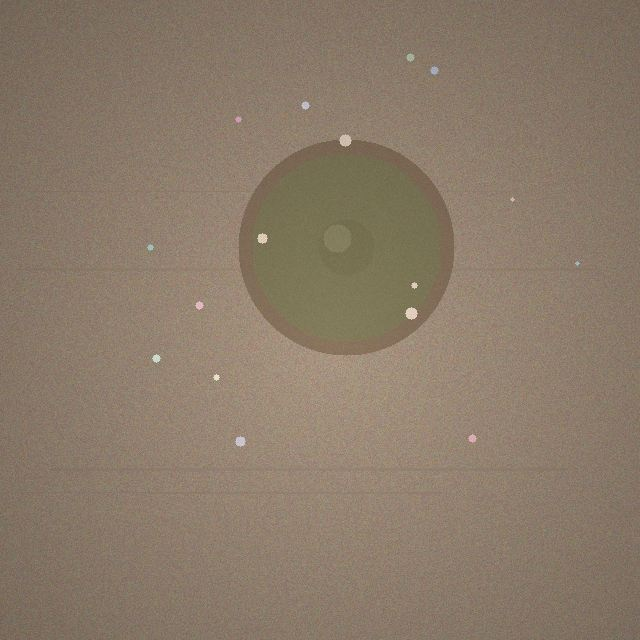overburn: (238, 139, 454, 355)
